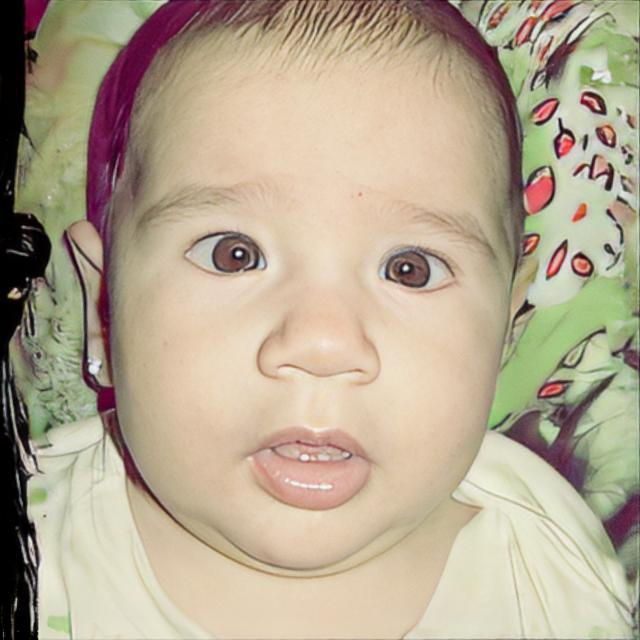fear: (106, 0, 508, 574)
